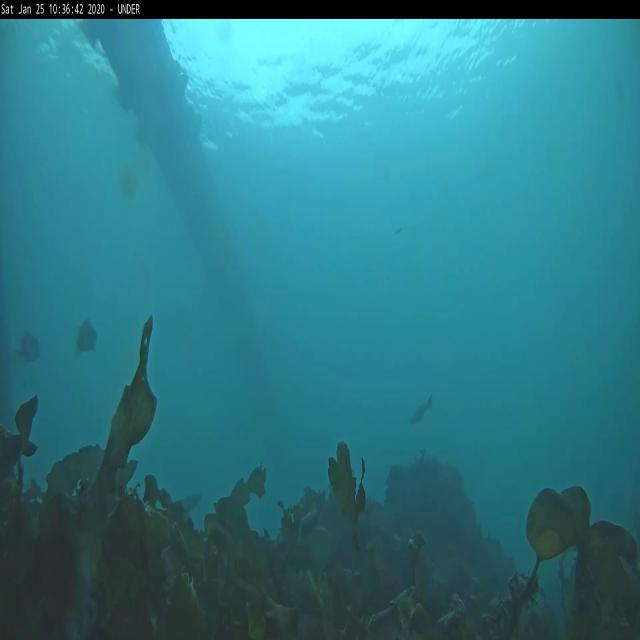fish: (73, 318, 101, 355), (17, 331, 44, 364), (410, 394, 433, 426)
